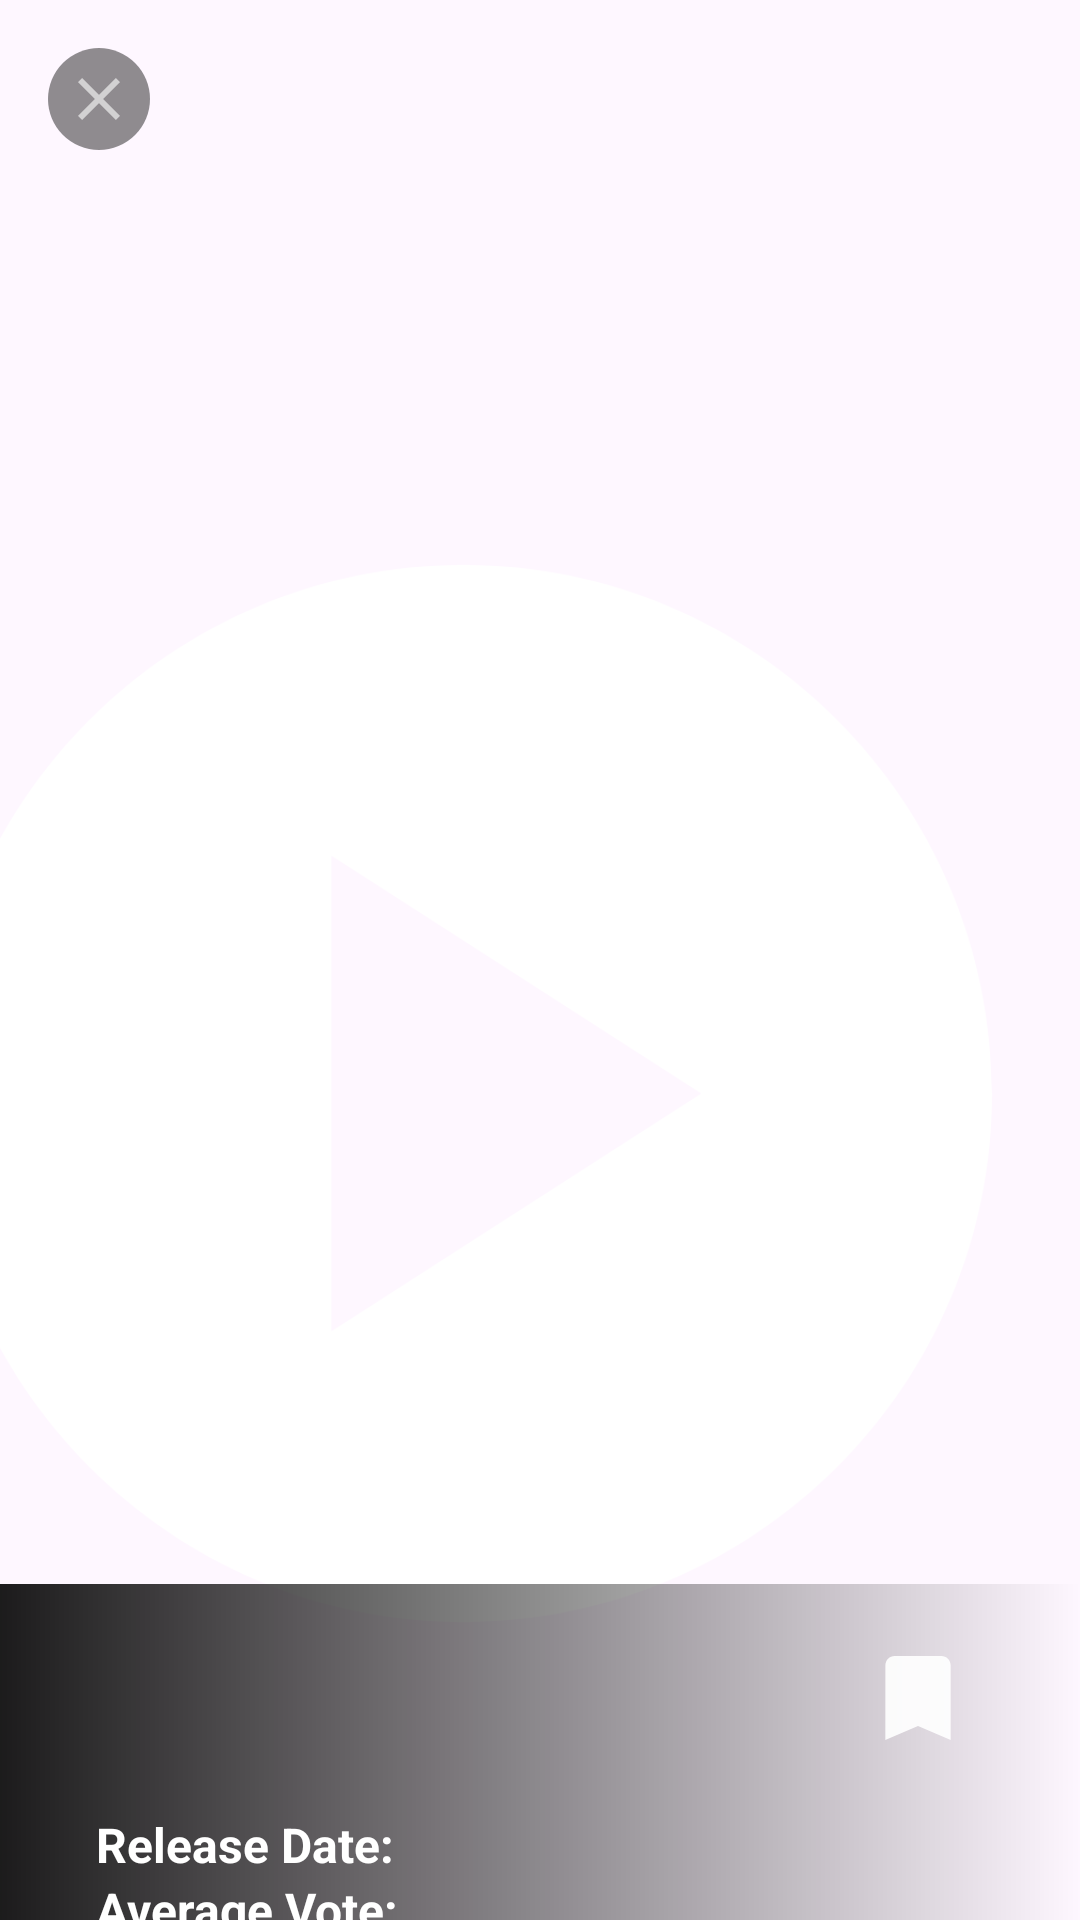

Named icons in this screenshot (1080*1920) and their bounding boxes, (x1,y1,x2,y2):
Add Movie to Collection: (886,1656,950,1739)
close details: (48,48,150,150)
